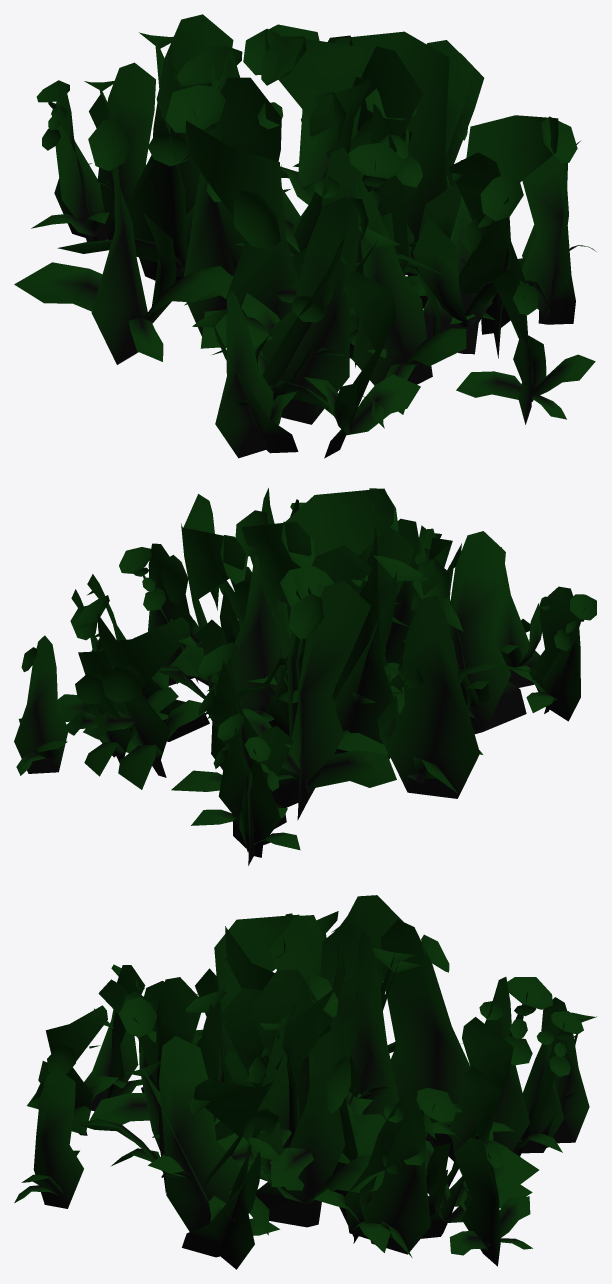
The model's file is FlowersDlionGCATA_K.fbx.
The picture shows the model from 3 angles, top to bottom: view 1: azimuth 30°, elevation 25°; view 2: azimuth 150°, elevation 25°; view 3: azimuth 270°, elevation 25°; orthographic projection. The views are drawn at different scales.
Visible parts, largest first — view 1: FDGCATAK_LOD0; view 2: FDGCATAK_LOD0; view 3: FDGCATAK_LOD0.
Part boxes in pixels (bbox=[...]): FDGCATAK_LOD0: bbox=[14, 14, 596, 458]; FDGCATAK_LOD0: bbox=[14, 488, 596, 865]; FDGCATAK_LOD0: bbox=[14, 895, 596, 1269].
Size of what is drawn, in the model's own units: 0.9171 by 0.5271 by 1.11.
